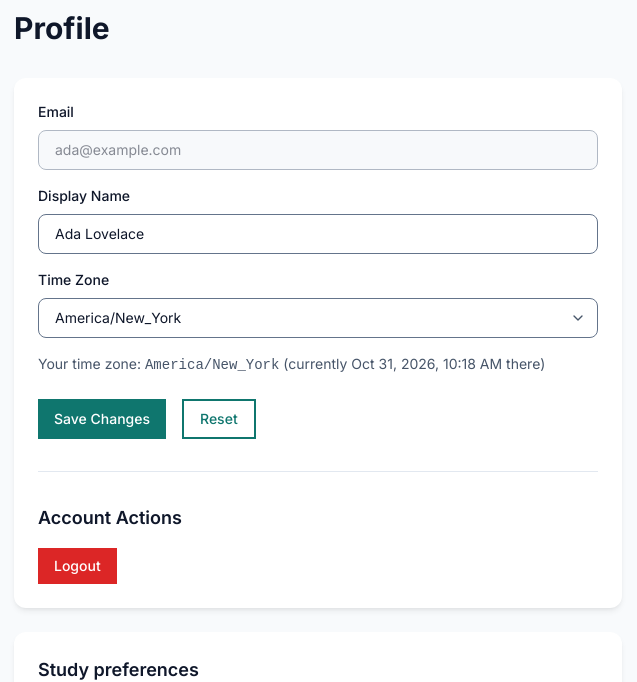
Test: ProfilePage time-zone editing (SP-106C) › is keyboard reachable as a native combobox, with keys left to the browser (AC-106E-6)
The width and height of the screenshot is (637, 682).
Press Tab
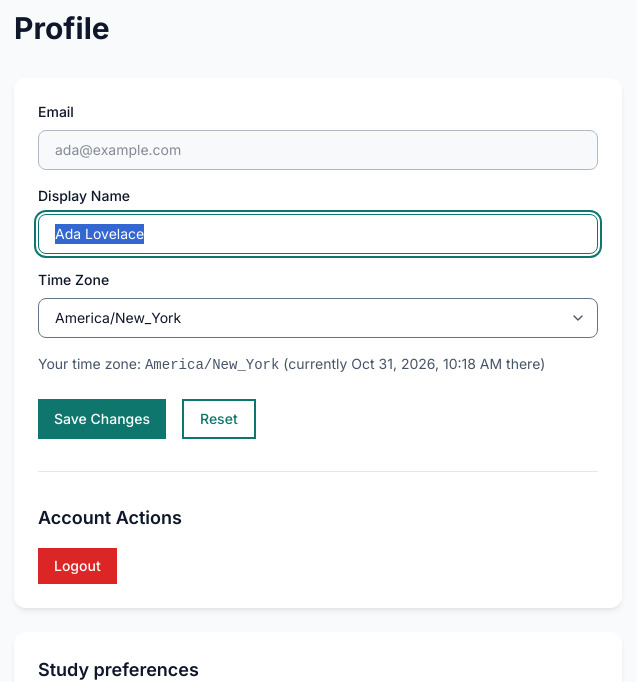
Press Tab
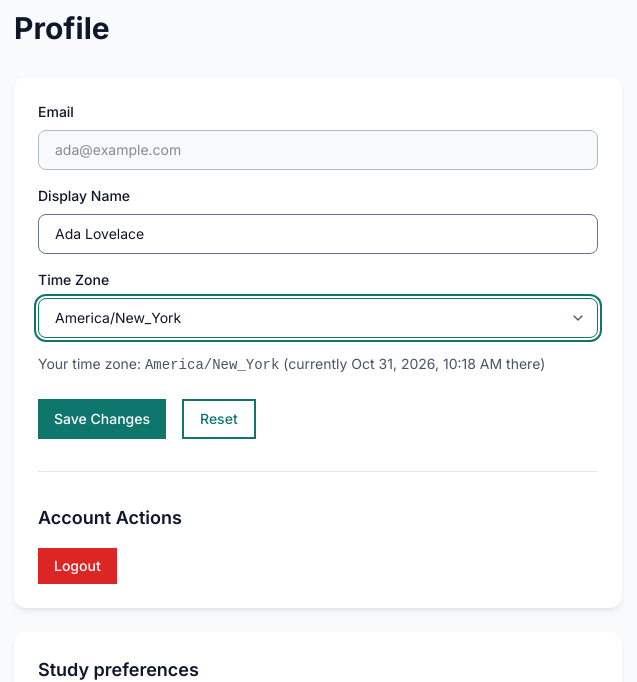
Press Arrowdown Enter Escape
Select "Pacific/Auckland" in the dropdown labelled "Time Zone" at (318, 318), box 38,298 -> 598,338
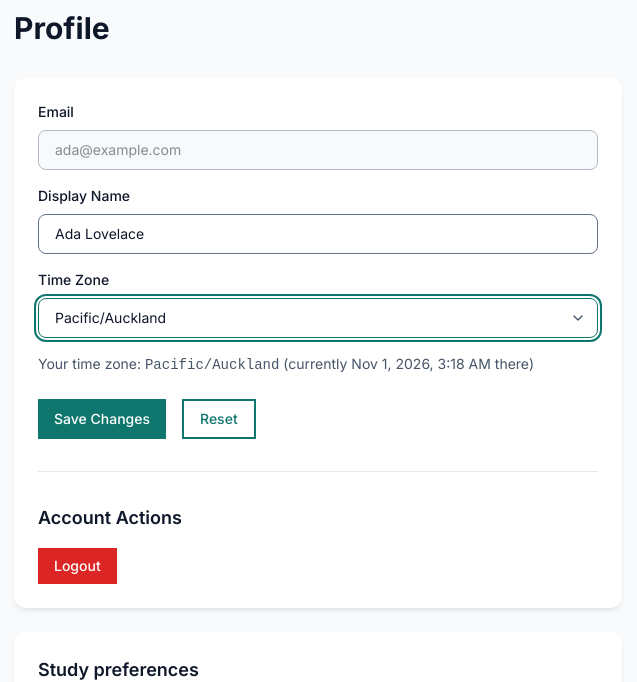
Expected: the text "Your time zone" shows "Pacific/Auckland", 145,357 -> 279,373
